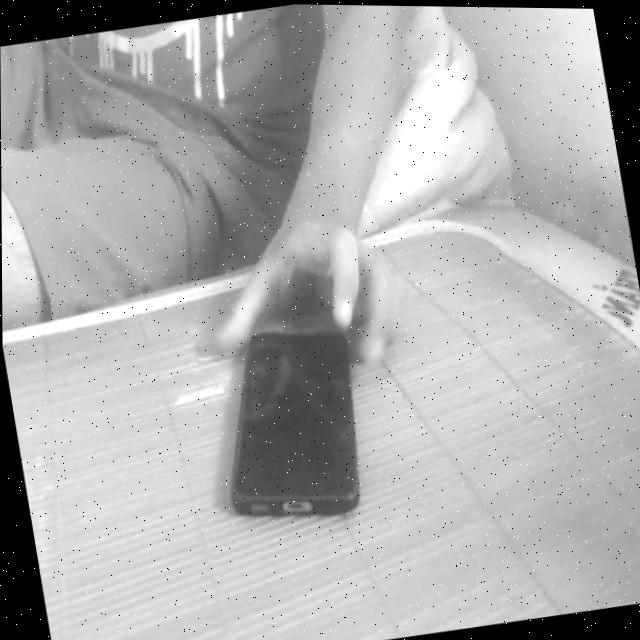phone: (175, 269, 408, 566)
